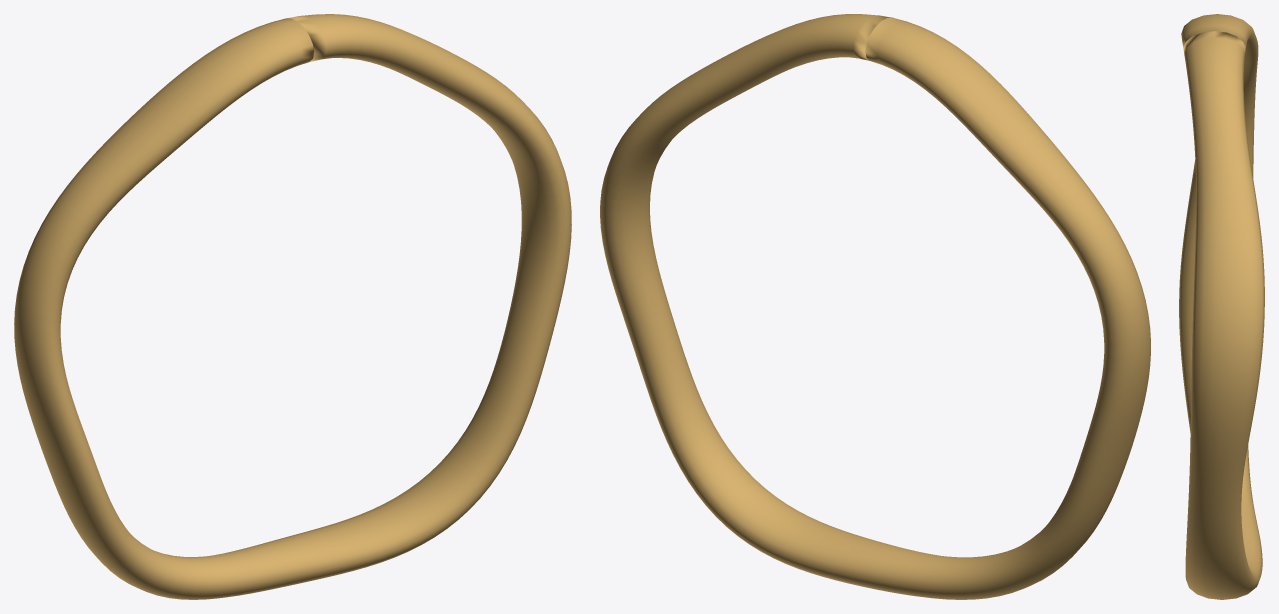
The model's file is bands-sculpted-organic.glb.
The picture shows the model from 3 angles, left to right: view 1: azimuth 30°, elevation 25°; view 2: azimuth 150°, elevation 25°; view 3: azimuth 270°, elevation 25°; orthographic projection. The views are drawn at different scales.
Parts seen in each view (by area): view 1: Band; view 2: Band; view 3: Band.
Boxes of the visible parts, bbox=[...] form: Band: bbox=[14, 14, 571, 599]; Band: bbox=[600, 14, 1150, 599]; Band: bbox=[1179, 14, 1264, 599].
Bounding box in the file's own units: 19.79 × 19.6 × 2.89.
